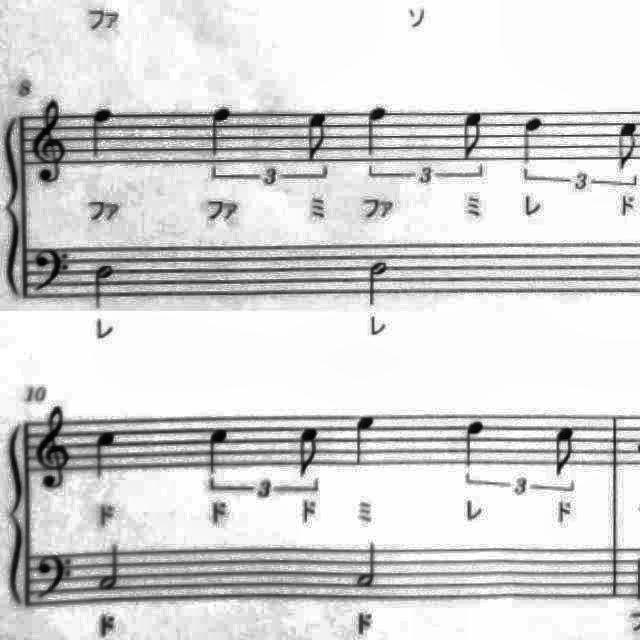Bass-clef: (33, 546, 81, 608), (26, 244, 74, 304)
Eighth-note: (548, 420, 584, 484), (292, 422, 328, 482), (300, 106, 336, 166), (458, 106, 492, 162), (612, 116, 640, 176)
Half-note: (350, 535, 386, 593), (94, 537, 128, 595), (363, 256, 397, 310), (88, 258, 120, 314)
Quarter-note: (346, 411, 382, 473), (456, 414, 492, 474), (202, 103, 238, 163), (88, 426, 124, 486), (514, 110, 550, 168), (201, 423, 237, 481), (360, 102, 394, 162), (84, 106, 118, 166)
Treble-clef: (29, 92, 75, 188), (34, 400, 78, 496)
